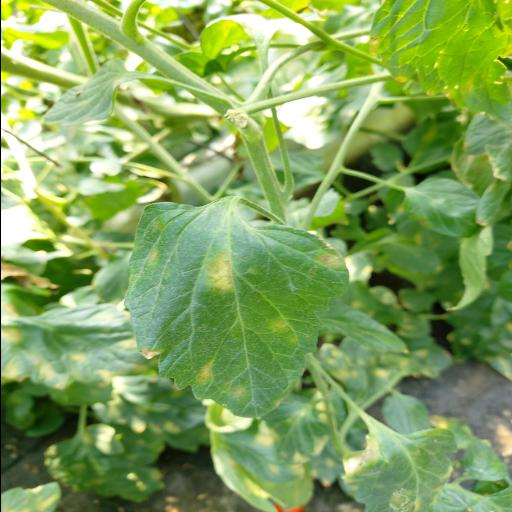Leaf Mold: (122, 202, 348, 418)
